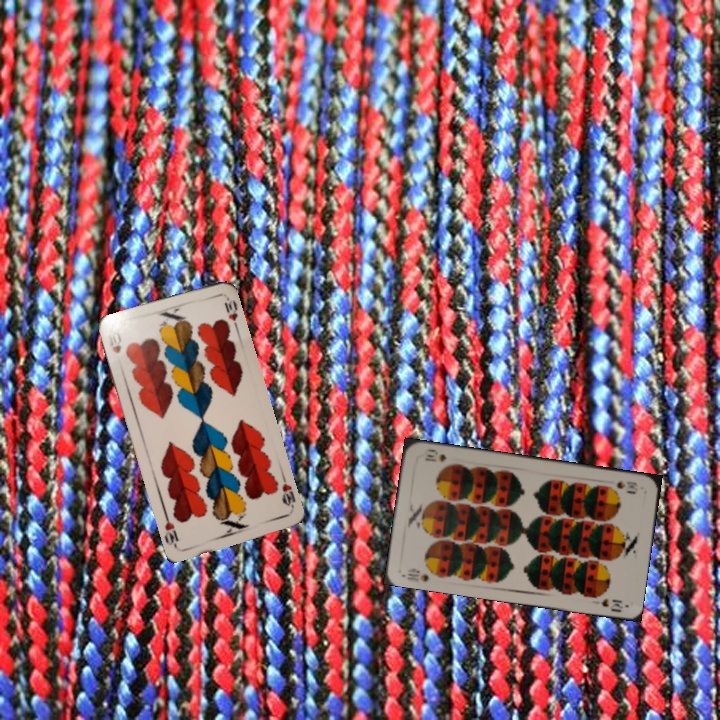H10: (278, 472, 298, 511), (105, 326, 124, 356)
S10: (399, 564, 433, 585), (603, 477, 640, 494)
